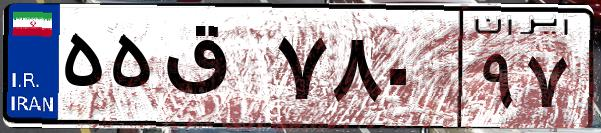0: (385, 28, 445, 110)
5: (57, 26, 110, 100), (110, 28, 158, 98)
7: (270, 28, 330, 110), (525, 38, 570, 115)
8: (330, 28, 385, 110)
9: (475, 38, 525, 113)
ق: (158, 20, 270, 120)
